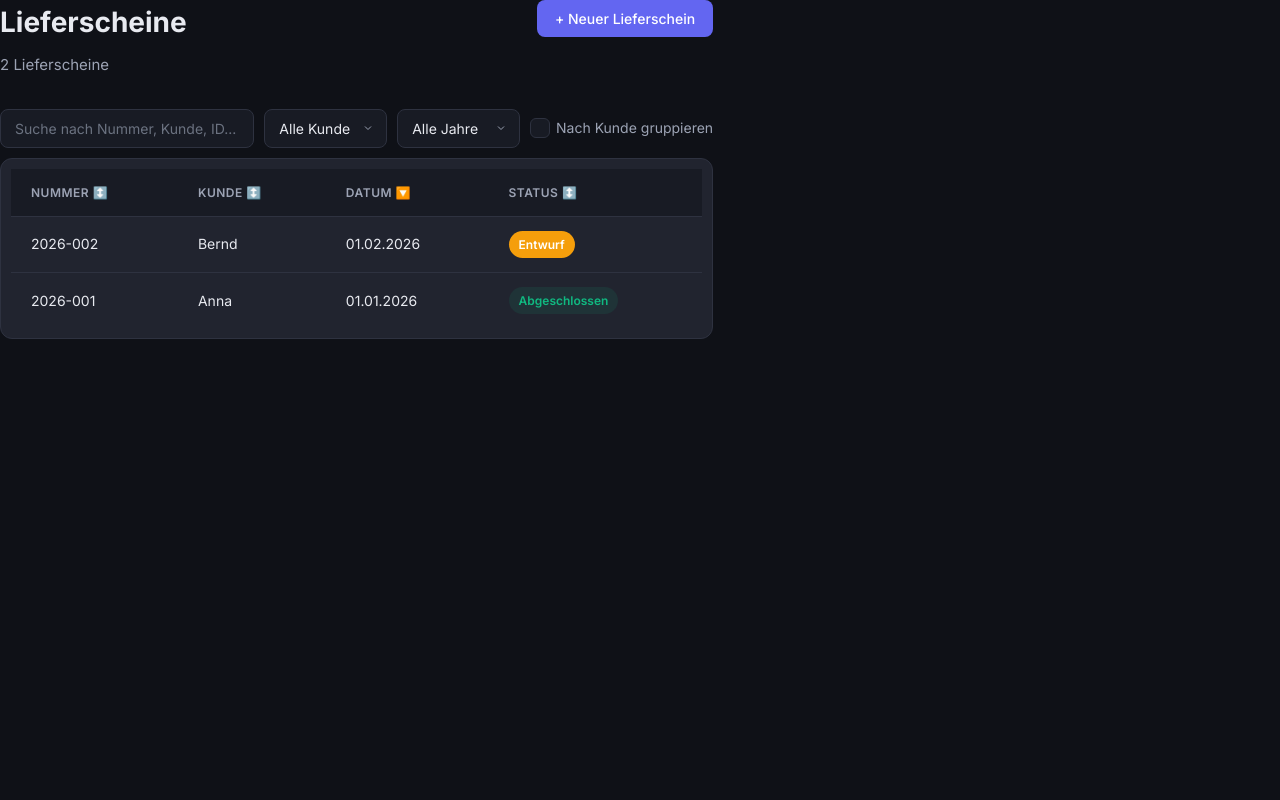
Test: DocumentManager › öffnet das Detail-Modal beim Klick auf eine Zeile
The width and height of the screenshot is (1280, 800).
Click the text "2026-001": (94, 301) [11,273,178,328]
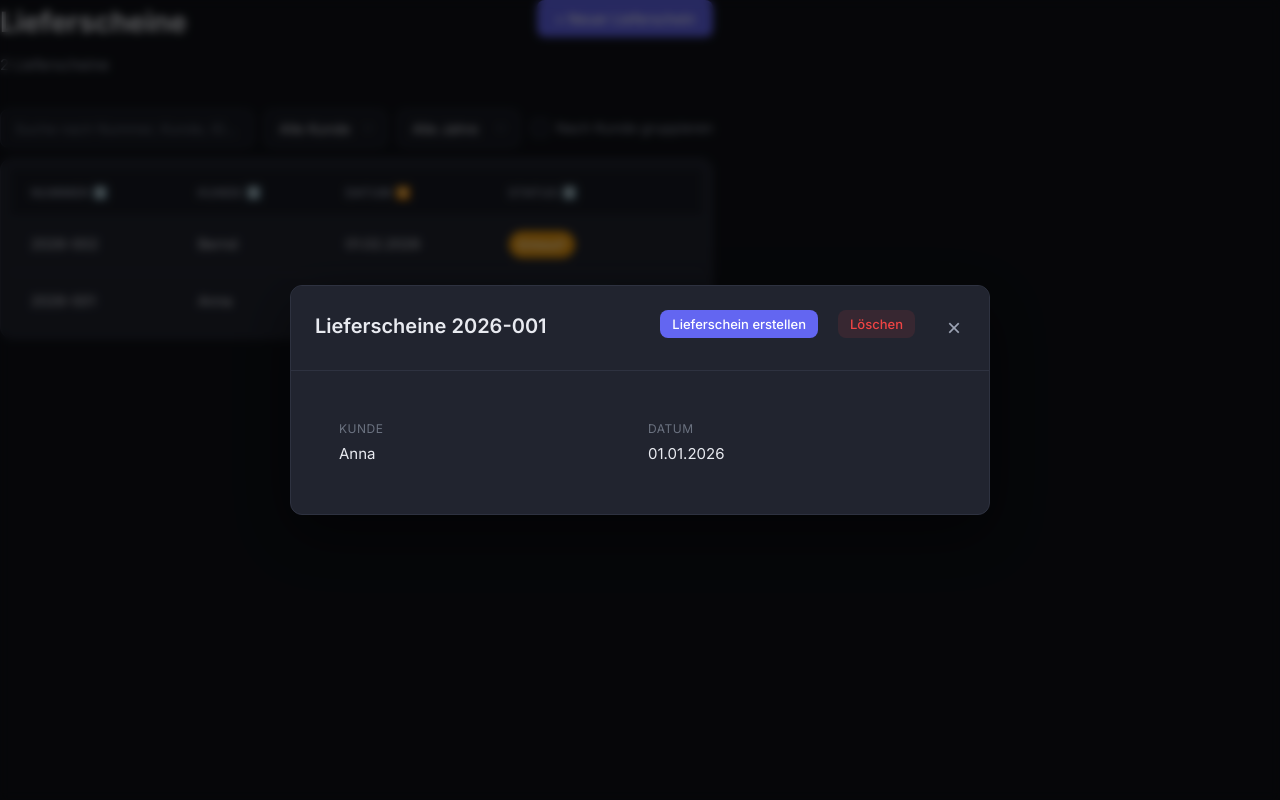
Now the button "Löschen" is shown, box [838,310,915,338]
